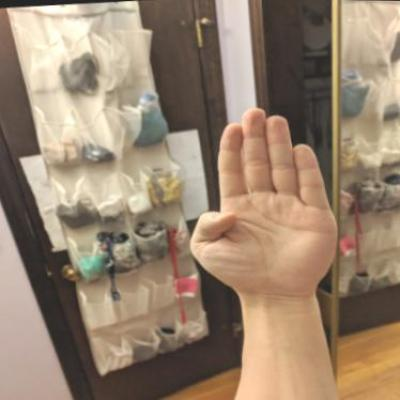hand: (174, 97, 346, 306)
